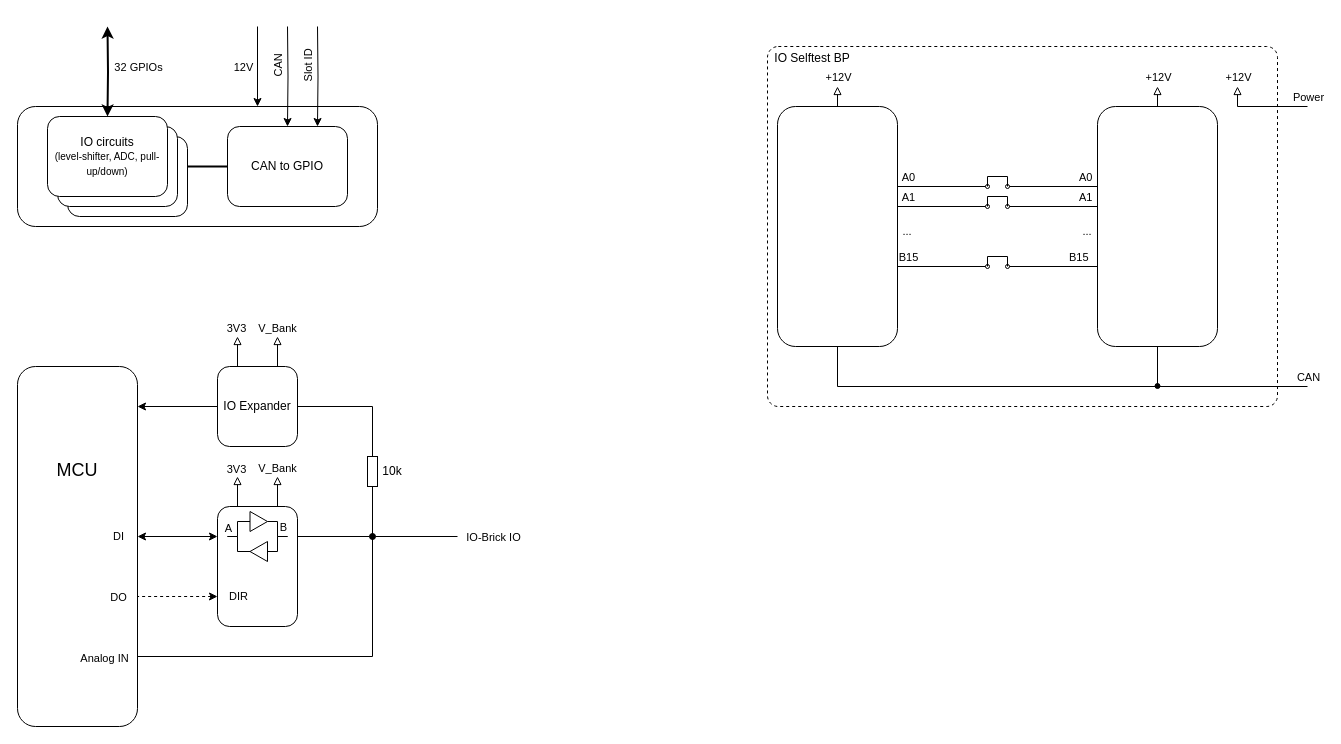
Image size: 1341x744. Some labels were removed from this diagram. Here are the shapes that lost their labels. From the top down, the centre of each, then its label:
At pixel 837 226: "IO-Brick 10".
At pixel 1157 226: "IO-Brick 11".
